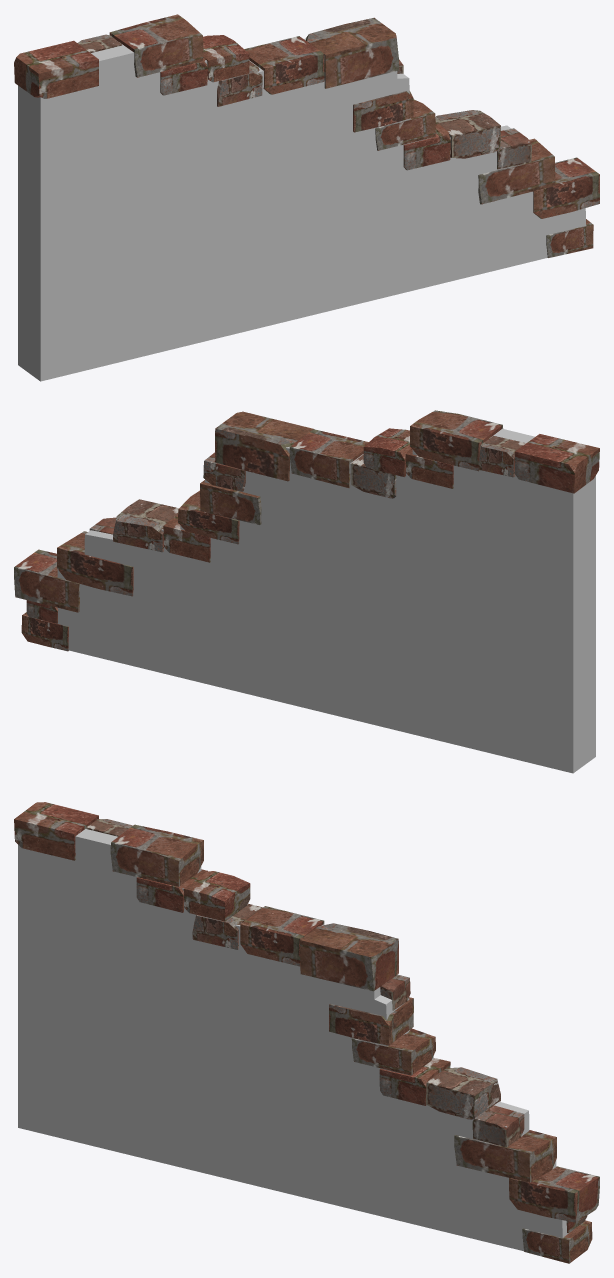
Rendered from SM_Wall_Ruined_27.fbx.
The picture shows the model from 3 angles, top to bottom: view 1: azimuth 30°, elevation 25°; view 2: azimuth 150°, elevation 25°; view 3: azimuth 330°, elevation 25°; orthographic projection.
Visible parts, largest first — view 1: SM_Wall_Ruined_27_LOD0; view 2: SM_Wall_Ruined_27_LOD0; view 3: SM_Wall_Ruined_27_LOD0.
Boxes of the visible parts, x1=… form: SM_Wall_Ruined_27_LOD0: x1=14, y1=14, x2=599, y2=381; SM_Wall_Ruined_27_LOD0: x1=14, y1=410, x2=599, y2=773; SM_Wall_Ruined_27_LOD0: x1=14, y1=802, x2=599, y2=1263.
Size of what is drawn, in the model's own units: 717 by 379 by 60.04.
